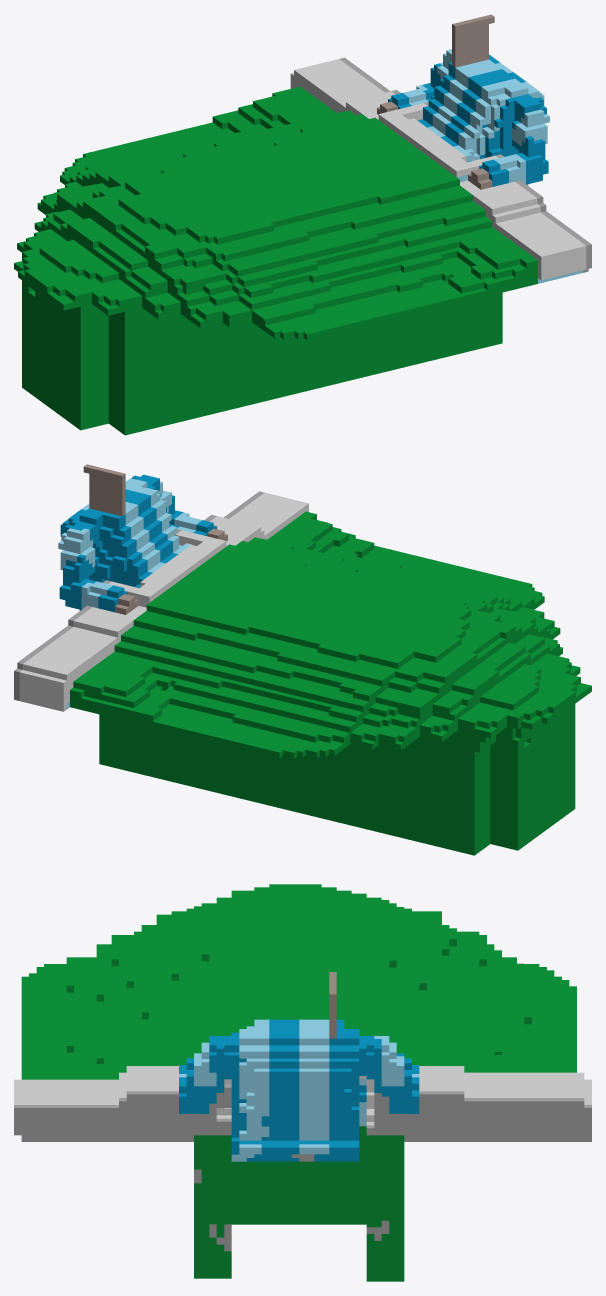
Rendered from goodnight-moon-15-awake2.obj.
3 views of the same model, one above another, from view 1: azimuth 30°, elevation 25°; view 2: azimuth 150°, elevation 25°; view 3: azimuth 270°, elevation 25° (orthographic). The views are drawn at different scales.
Parts seen in each view (by area): view 1: awake2; view 2: awake2; view 3: awake2.
Part boxes in pixels (x1,y1,x2,y2): awake2: (14, 14, 591, 435); awake2: (14, 464, 591, 855); awake2: (14, 884, 591, 1281).
Bounding box in the file's own units: 8.7 × 4.6 × 7.7.
Materials: 1 (1 with a texture image).
